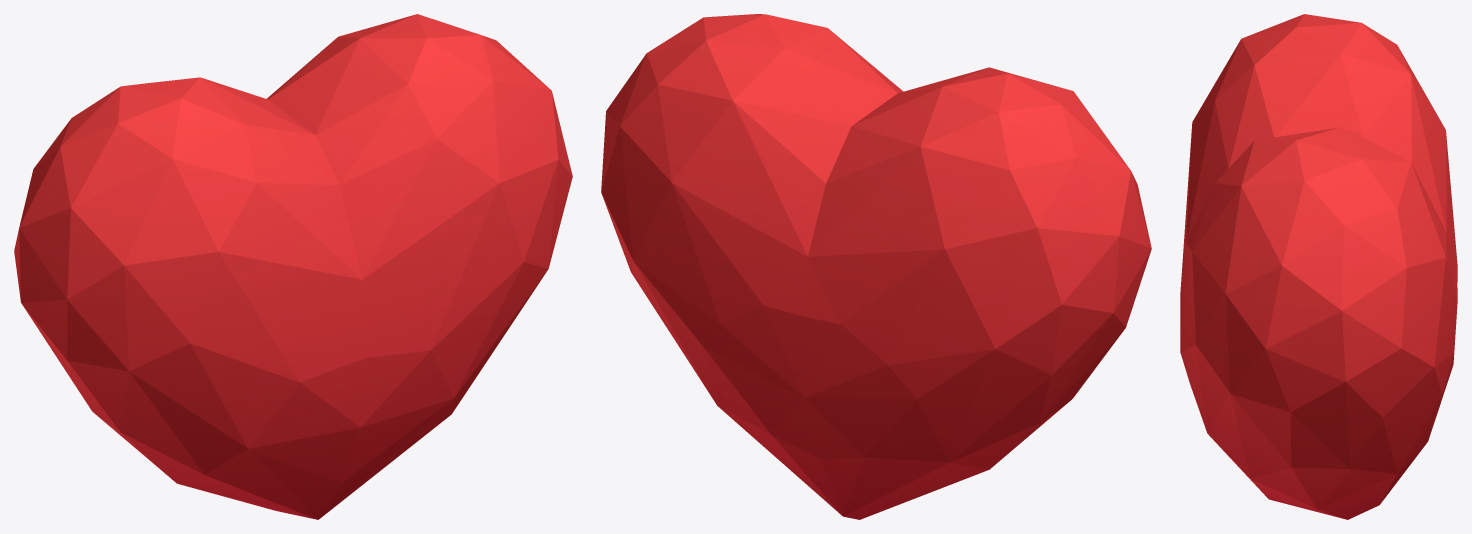
Rendered from heart.glb.
3 views of the same model, side by side, from view 1: azimuth 30°, elevation 25°; view 2: azimuth 150°, elevation 25°; view 3: azimuth 270°, elevation 25° (orthographic). The views are drawn at different scales.
Parts seen in each view (by area): view 1: heart; view 2: heart; view 3: heart.
Boxes of the visible parts, left/top/right/bottom form: heart: left=14, top=14, right=572, bottom=519; heart: left=601, top=14, right=1151, bottom=519; heart: left=1180, top=14, right=1457, bottom=519.
Bounding box in the file's own units: 4.68 × 3.97 × 2.29.
Materials: 1 (1 with a texture image).
